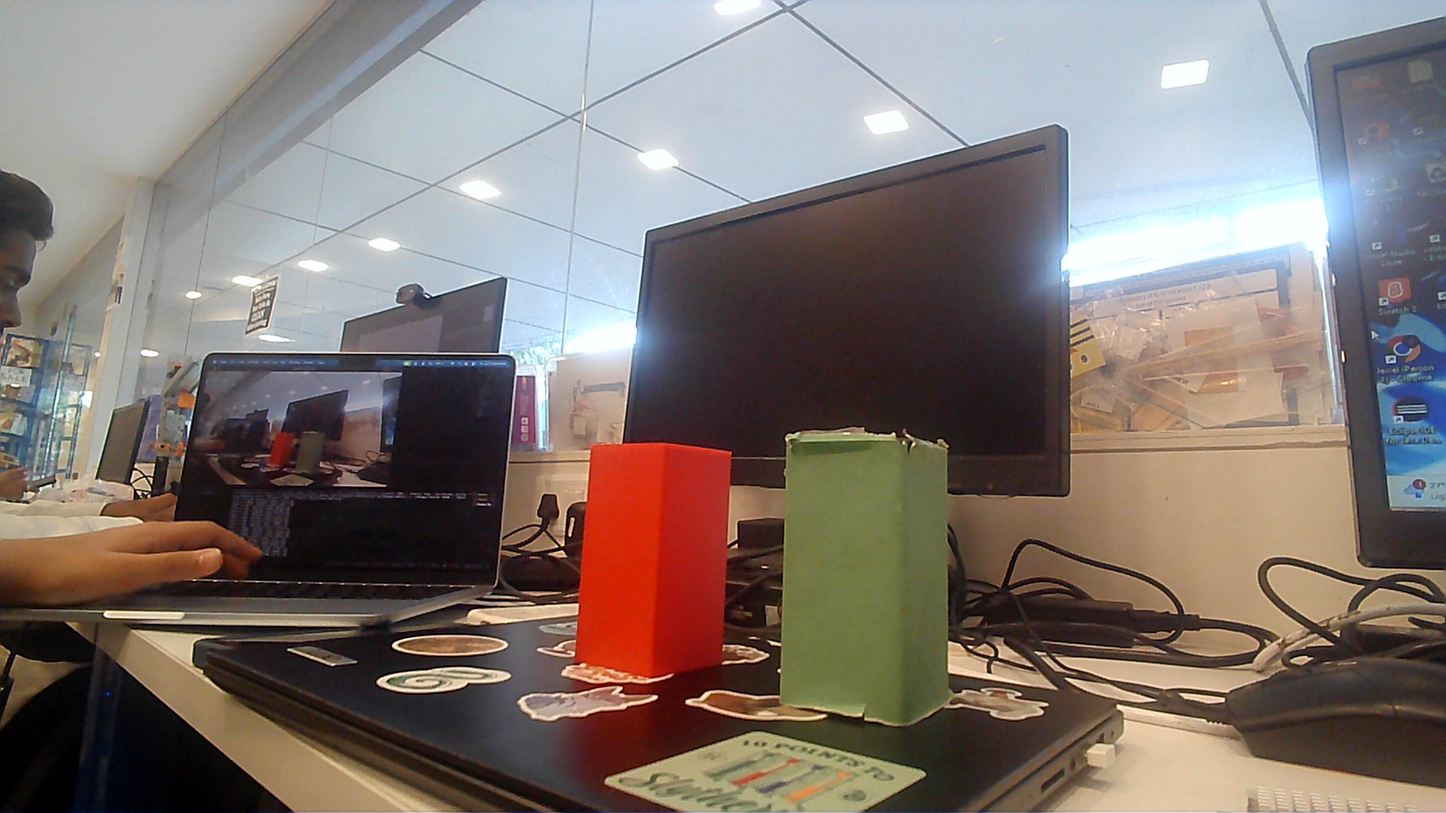red: (575, 432, 727, 680)
